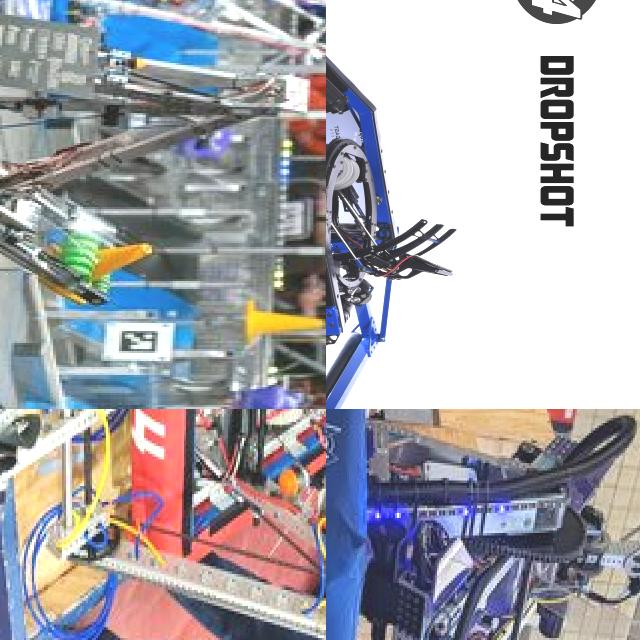FRC-Robots: (0, 0, 326, 279), (326, 0, 504, 409), (326, 409, 640, 640), (43, 409, 326, 640)
